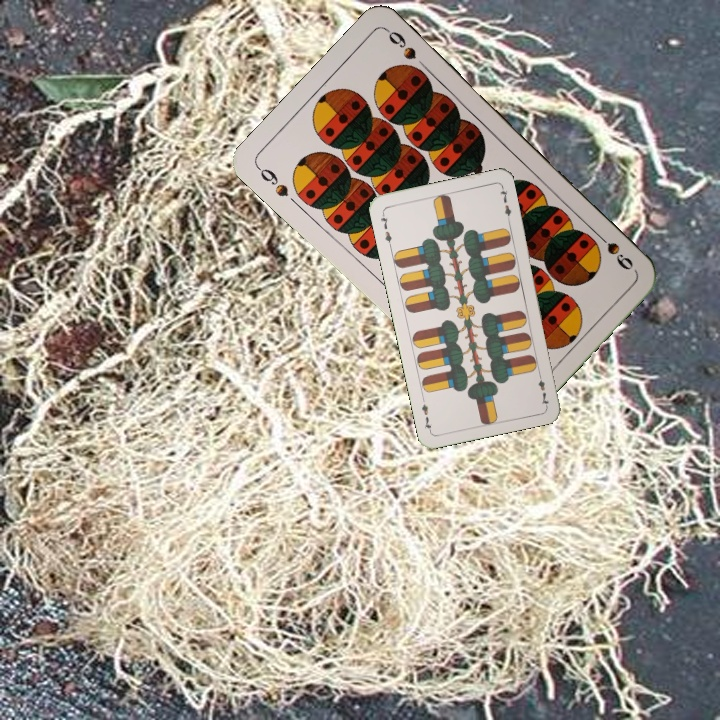E7: (377, 208, 394, 249), (534, 368, 551, 408)
S9: (590, 227, 637, 273), (253, 162, 291, 200)
